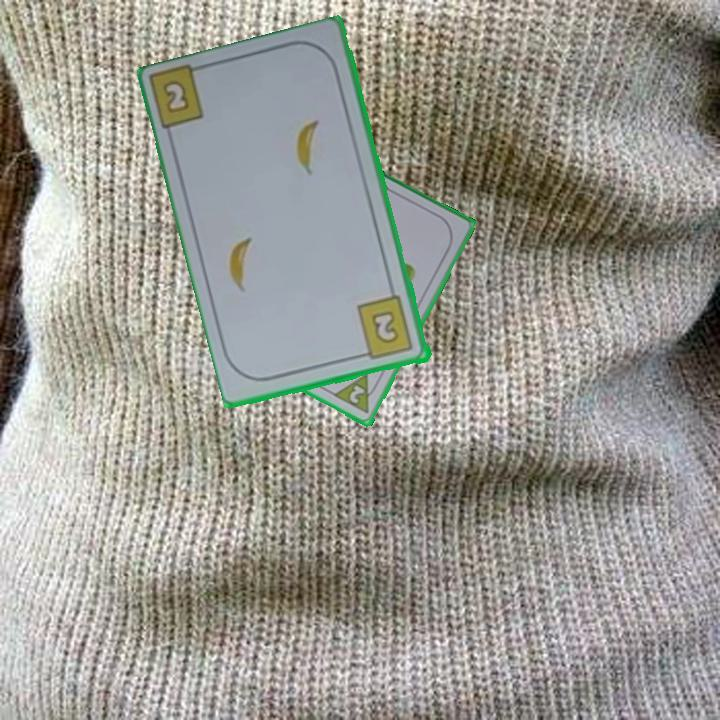2b: (354, 293, 417, 363), (162, 79, 193, 117)
2p: (346, 382, 368, 407)
